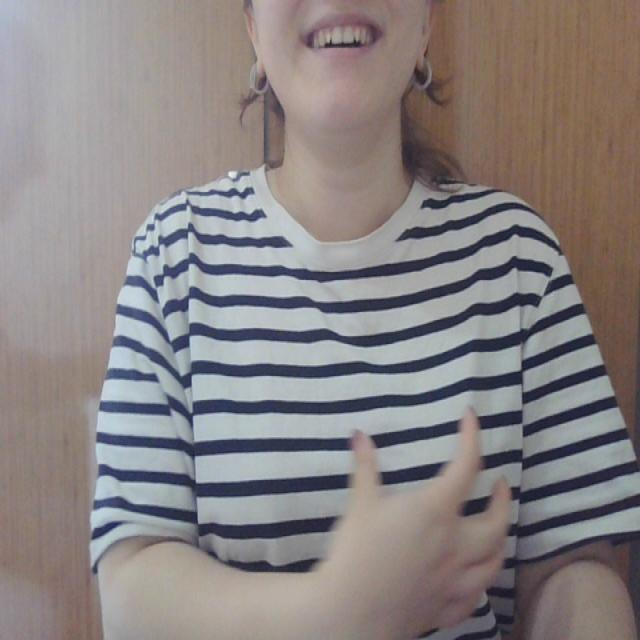Anne: (199, 394, 541, 618)
